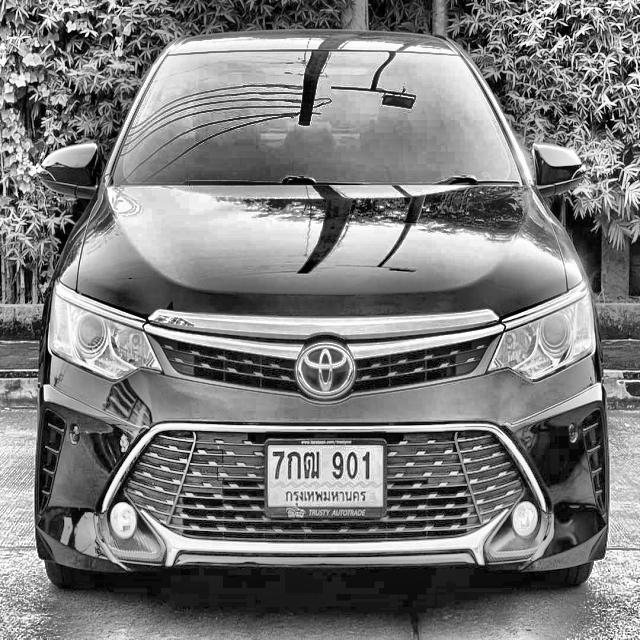license-plate: (264, 437, 388, 522)
